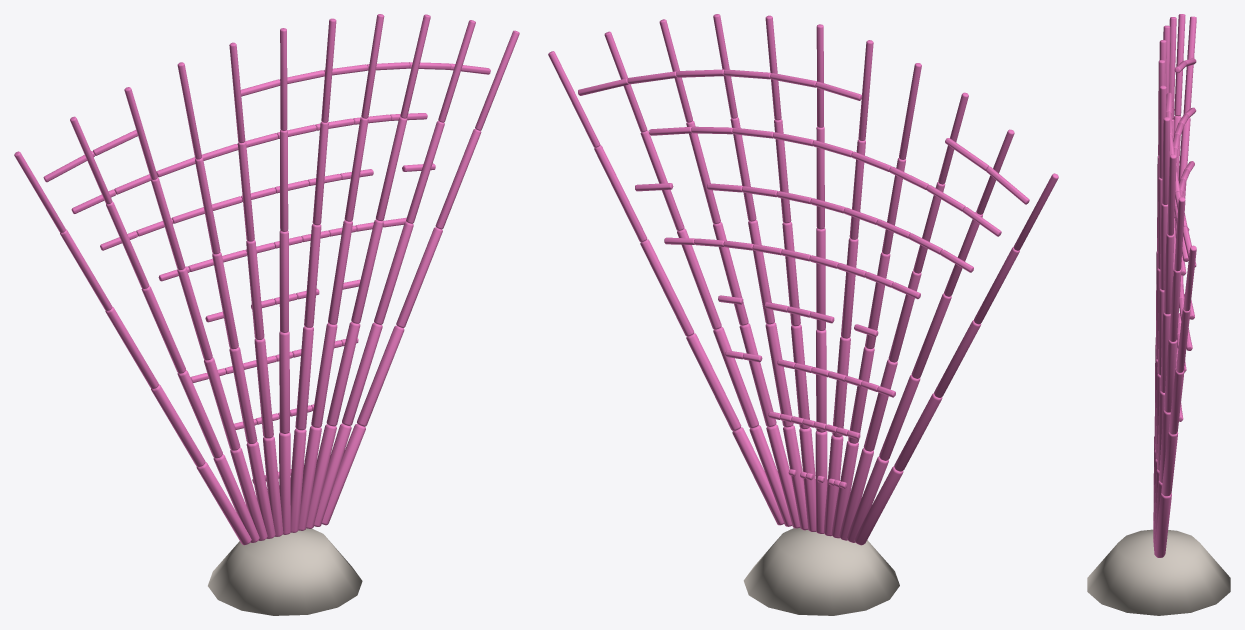
Rendered from sea_fan.glb.
3 renders of one model, left to right at view 1: azimuth 30°, elevation 25°; view 2: azimuth 150°, elevation 25°; view 3: azimuth 270°, elevation 25°, orthographic. The views are drawn at different scales.
Visible parts, largest first — view 1: sea_fan; view 2: sea_fan; view 3: sea_fan.
Part boxes in pixels (x1,y1,x2,y2): sea_fan: (14, 14, 519, 615); sea_fan: (548, 14, 1058, 615); sea_fan: (1087, 14, 1230, 615).
Size of the model in its own units: 0.5247 by 0.55 by 0.1365.
